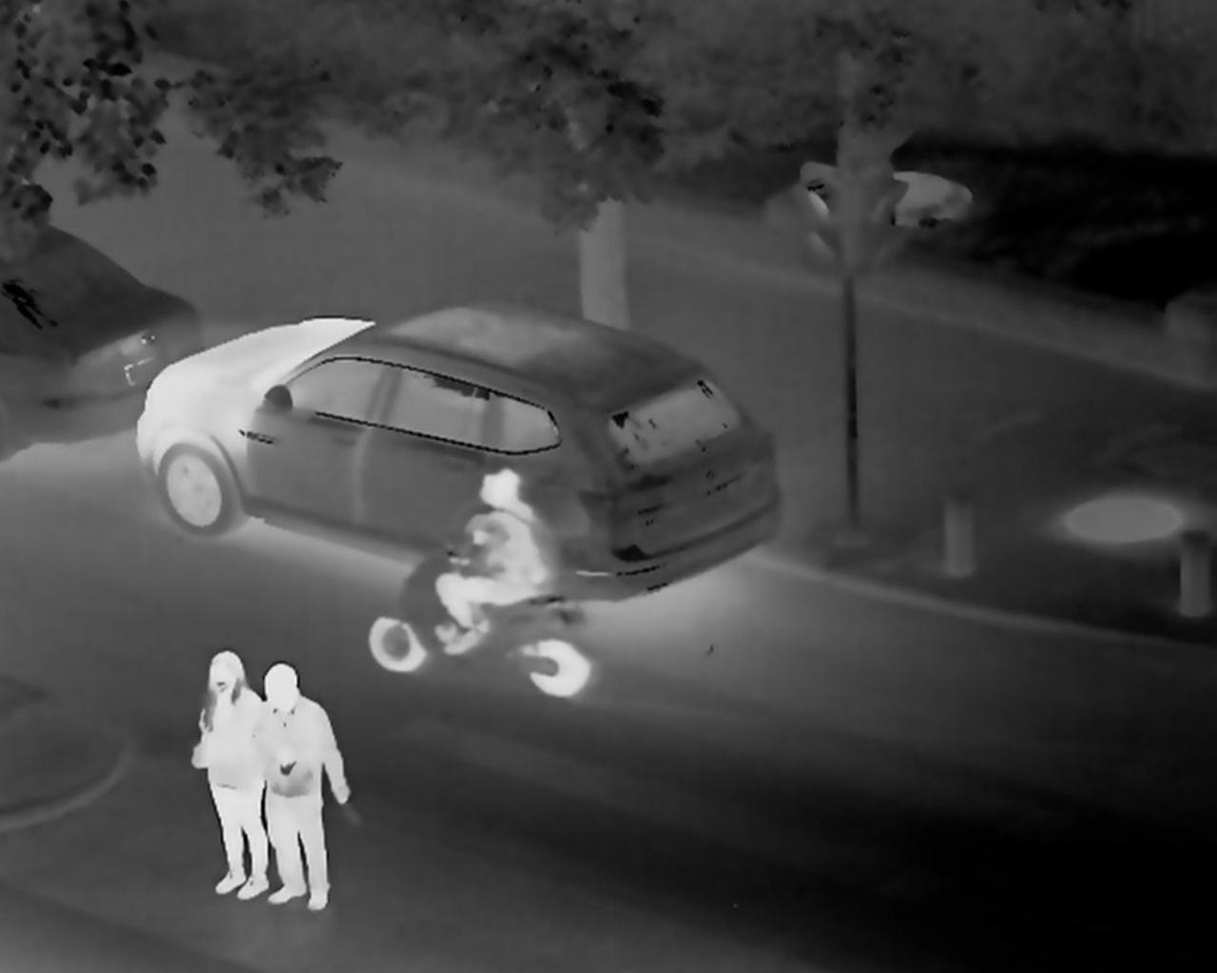person: (256, 659, 355, 913), (432, 459, 558, 658), (189, 651, 273, 898)
